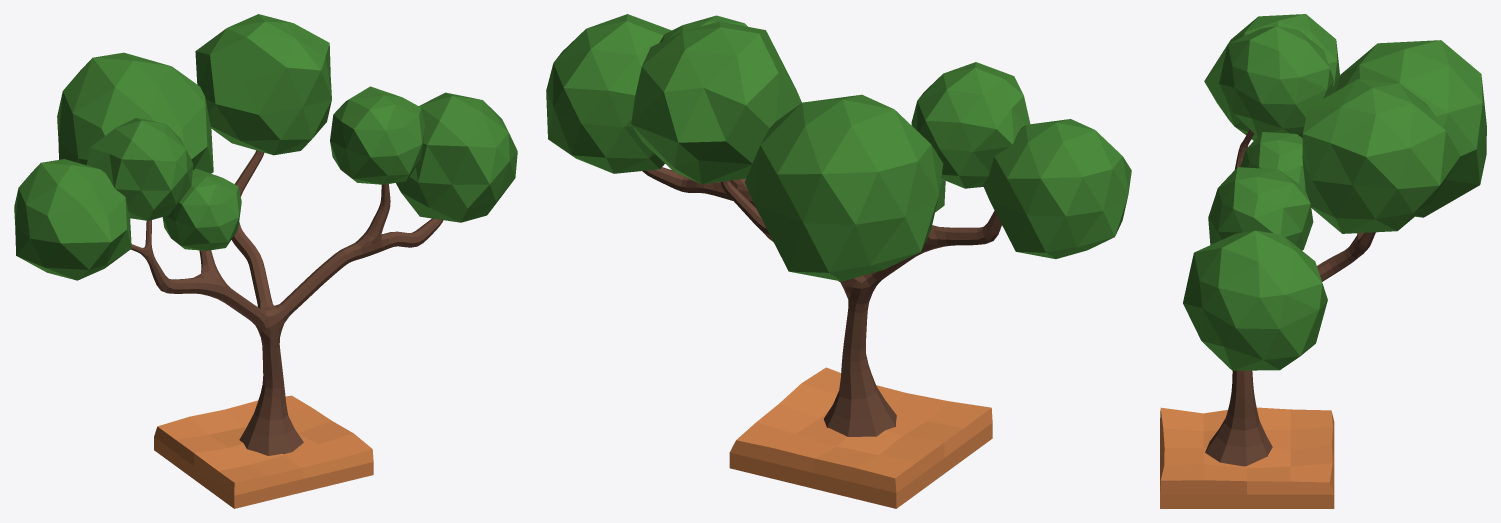
File: Treeee.fbx
3 renders of one model, left to right at view 1: azimuth 30°, elevation 25°; view 2: azimuth 150°, elevation 25°; view 3: azimuth 270°, elevation 25°, orthographic. The views are drawn at different scales.
Parts seen in each view (by area): view 1: Icosphere.007, Plane, Plane.001, Icosphere.008, Icosphere.004, Icosphere.001, Icosphere, Icosphere.006, Icosphere.005; view 2: Icosphere.008, Plane, Icosphere.007, Icosphere.004, Icosphere.001, Icosphere.006, Plane.001; view 3: Icosphere.007, Icosphere.001, Plane, Icosphere.008, Icosphere.006, Icosphere, Plane.001, Icosphere.004, Icosphere.005.
Boxes of the visible parts, x1,y1,x2,y2 form: Icosphere.007: [195, 14, 331, 155]; Plane: [154, 395, 373, 508]; Plane.001: [131, 150, 443, 455]; Icosphere.008: [57, 52, 213, 173]; Icosphere.004: [14, 159, 131, 280]; Icosphere.001: [396, 92, 517, 222]; Icosphere: [330, 86, 425, 184]; Icosphere.006: [86, 117, 193, 220]; Icosphere.005: [162, 168, 241, 250]; Icosphere.008: [744, 94, 943, 281]; Plane: [729, 367, 992, 508]; Icosphere.007: [631, 21, 801, 184]; Icosphere.004: [983, 119, 1131, 259]; Icosphere.001: [546, 14, 671, 173]; Icosphere.006: [911, 62, 1030, 188]; Plane.001: [642, 167, 1001, 436]; Icosphere.007: [1302, 79, 1460, 233]; Icosphere.001: [1183, 230, 1327, 370]; Plane: [1160, 407, 1334, 508]; Icosphere.008: [1326, 40, 1486, 217]; Icosphere.006: [1219, 26, 1333, 136]; Icosphere: [1208, 167, 1313, 250]; Plane.001: [1205, 129, 1375, 466]; Icosphere.004: [1204, 14, 1339, 140]; Icosphere.005: [1240, 132, 1305, 191].
Size of the model in its own units: 1619 by 1241 by 884.
